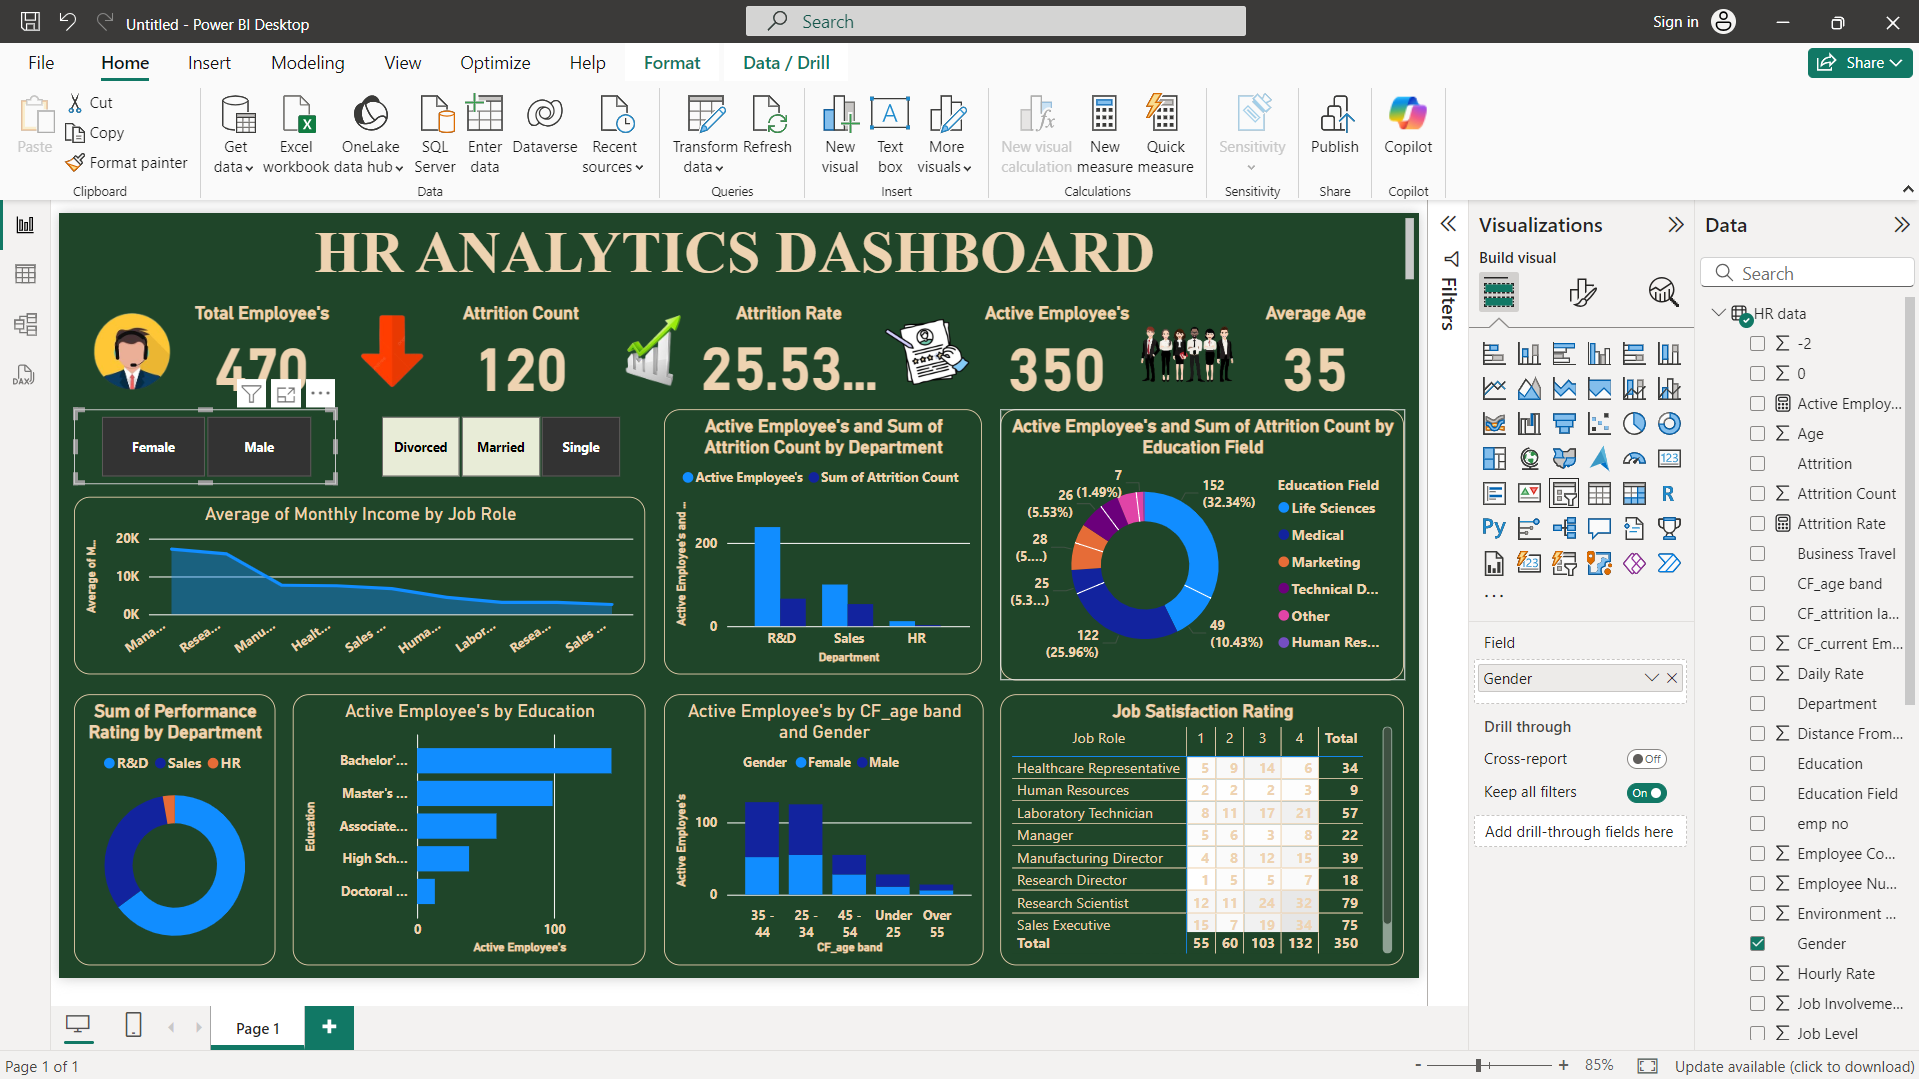

This screenshot's page, from the dashboard's own definition file:
{"tool":"powerbi","page":{"name":"Page 1","canvas":[1280,720],"ordinal":0},"visuals":[{"type":"card","title":"Total Employee''s","fields":{"Values":["Sum(HR data.Employee Count)"]},"box":[108.2,83.1,166,94.7],"z":0},{"type":"clusteredColumnChart","fields":{"Category":["HR data.Department"],"Y":["HR data.Active Employee's","Sum(HR data.Attrition Count)"]},"box":[569.5,185.2,299.1,249.7],"z":0},{"type":"card","title":"Average Age","fields":{"Values":["Avg(HR data.Age)"]},"box":[1100.5,83.1,166,94.7],"z":1000},{"type":"donutChart","fields":{"Y":["HR data.Active Employee's","Sum(HR data.Attrition Count)"],"Category":["HR data.Education Field"]},"box":[886.5,185.2,380.1,255.2],"z":1000},{"type":"card","title":"Active Employee''s","fields":{"Values":["HR data.Active Employee's"]},"box":[856.8,83.1,166,94.7],"z":2000},{"type":"columnChart","fields":{"Y":["HR data.Active Employee's"],"Category":["HR data.CF_age band"],"Series":["HR data.Gender"]},"box":[569.5,452.8,300.5,255.2],"z":2000},{"type":"card","title":"Attrition Rate","fields":{"Values":["HR data.Attrition Rate"]},"box":[595.7,83.4,183.5,94.1],"z":3000},{"type":"pivotTable","title":"Job Satisfaction Rating","fields":{"Rows":["HR data.Job Role"],"Columns":["HR data.Job Satisfaction"],"Values":["HR data.Active Employee's"]},"box":[886.5,452.8,380.1,255.2],"z":3000},{"type":"card","title":"Attrition Count","fields":{"Values":["Sum(HR data.Attrition Count)"]},"box":[351.9,83.1,166,94.7],"z":4000},{"type":"donutChart","fields":{"Y":["Sum(HR data.Performance Rating)"],"Category":["HR data.Department"]},"box":[13.7,452.8,189.4,255.2],"z":4000},{"type":"clusteredBarChart","fields":{"Category":["HR data.Education"],"Y":["HR data.Active Employee's"]},"box":[219.6,452.8,332.1,255.2],"z":5000},{"type":"areaChart","fields":{"Category":["HR data.Job Role"],"Y":["Avg(HR data.Monthly Income)"]},"box":[13.7,267.6,537.9,167.4],"z":6000},{"type":"slicer","fields":{"Values":["HR data.Gender"]},"box":[13.7,185.2,247,70],"z":7000},{"type":"slicer","fields":{"Values":["HR data.Marital Status"]},"box":[277.2,185.2,274.4,70],"z":8000},{"type":"image","box":[768,79.9,100,101.2],"z":10000},{"type":"image","box":[263,80.4,100.2,100.2],"z":11000},{"type":"image","box":[1011.6,80.4,100.2,100.2],"z":12000},{"type":"image","box":[506.7,80.4,100.2,100.2],"z":13000},{"type":"image","box":[19.2,80.4,100.2,100.2],"z":14000},{"type":"textbox","box":[0,0,1280.3,78.2],"z":15000}]}

Visuals, with their boxes on the page's 1280x720 design canvas (x1, y1, x2, y2). These are canvas units, not pixel positions in the 1919x1079 screenshot, which may show the page scaled, cropped or inside an application window:
"Total Employee''s" card: x1=108 y1=83 x2=274 y2=178
clusteredColumnChart - HR data.Department x HR data.Active Employee's: x1=570 y1=185 x2=869 y2=435
"Average Age" card: x1=1100 y1=83 x2=1266 y2=178
donutChart - HR data.Active Employee's x Sum(HR data.Attrition Count): x1=886 y1=185 x2=1267 y2=440
"Active Employee''s" card: x1=857 y1=83 x2=1023 y2=178
columnChart - HR data.Active Employee's x HR data.CF_age band: x1=570 y1=453 x2=870 y2=708
"Attrition Rate" card: x1=596 y1=83 x2=779 y2=178
"Job Satisfaction Rating" pivotTable: x1=886 y1=453 x2=1267 y2=708
"Attrition Count" card: x1=352 y1=83 x2=518 y2=178
donutChart - Sum(HR data.Performance Rating) x HR data.Department: x1=14 y1=453 x2=203 y2=708
clusteredBarChart - HR data.Education x HR data.Active Employee's: x1=220 y1=453 x2=552 y2=708
areaChart - HR data.Job Role x Avg(HR data.Monthly Income): x1=14 y1=268 x2=552 y2=435
slicer - HR data.Gender: x1=14 y1=185 x2=261 y2=255
slicer - HR data.Marital Status: x1=277 y1=185 x2=552 y2=255
image: x1=768 y1=80 x2=868 y2=181
image: x1=263 y1=80 x2=363 y2=181
image: x1=1012 y1=80 x2=1112 y2=181
image: x1=507 y1=80 x2=607 y2=181
image: x1=19 y1=80 x2=119 y2=181
textbox: x1=0 y1=0 x2=1280 y2=78
